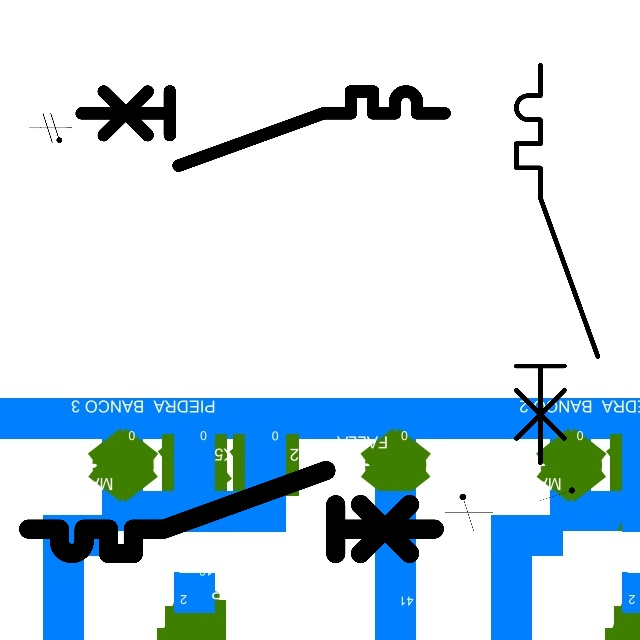interruptor_termomagnetico: (18, 460, 444, 564), (506, 55, 608, 473), (72, 82, 454, 175)
